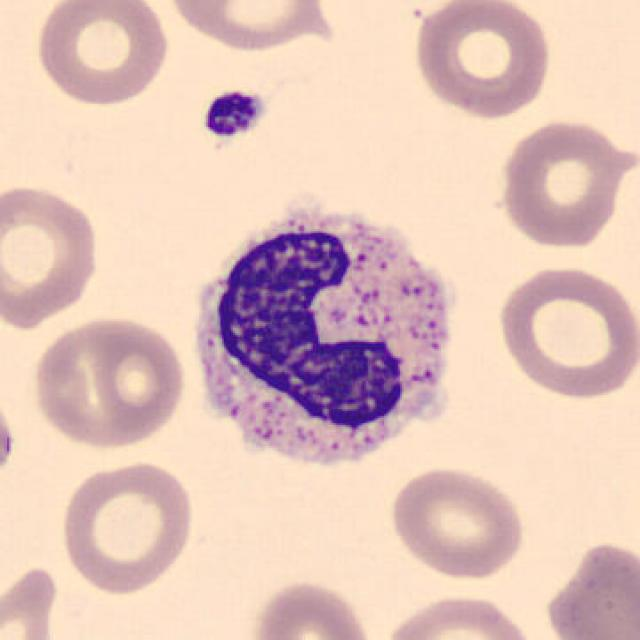Neutrophil: (179, 189, 465, 487)
Platelets: (198, 86, 268, 141), (0, 400, 18, 487)
RBC: (28, 310, 190, 452), (492, 261, 638, 402), (55, 457, 197, 598), (492, 115, 634, 252), (409, 0, 555, 122), (384, 462, 530, 580), (0, 180, 105, 331), (30, 0, 174, 109), (540, 537, 638, 640), (162, 0, 336, 55), (247, 575, 379, 640), (378, 590, 540, 640), (0, 562, 64, 640)
